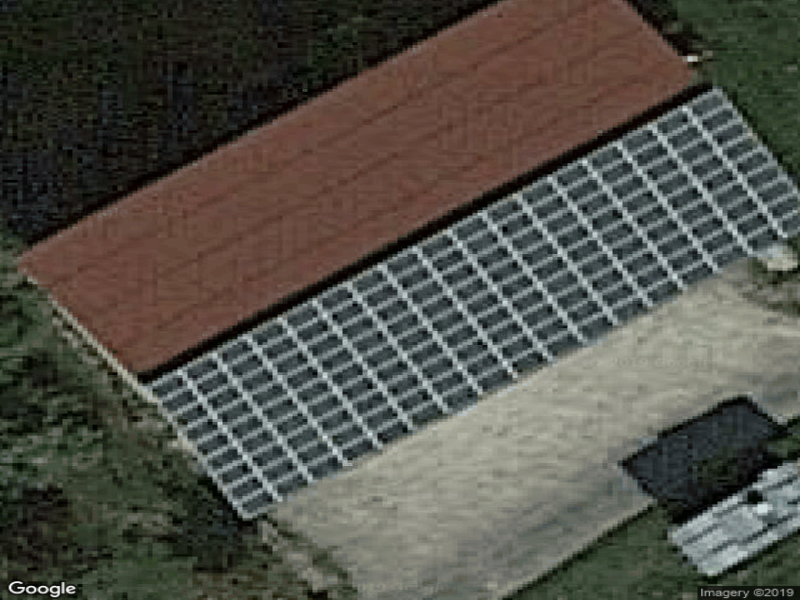pv: (151, 87, 800, 523)
